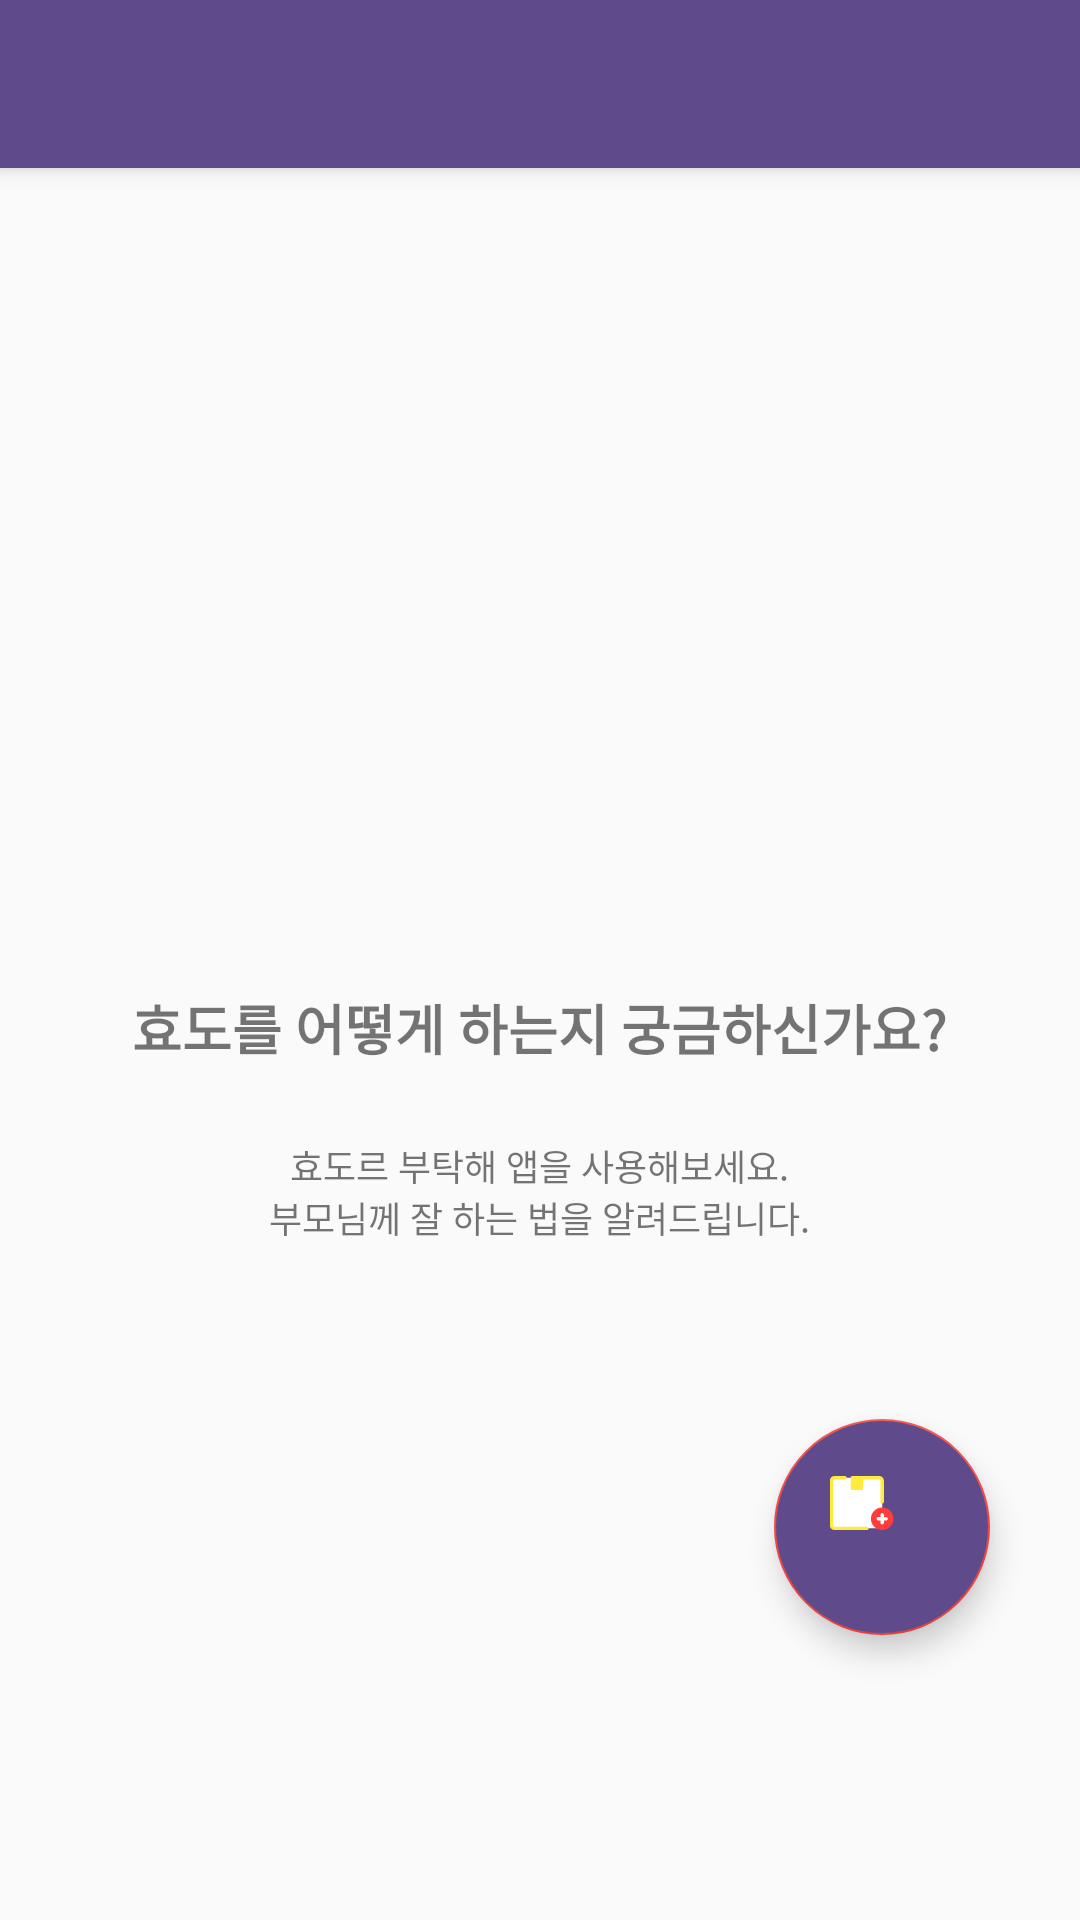

Icons on this 1080w x 1920h Android screen, each with the point to tap as point (x, y):
dday add to collection: point (882, 1527)
